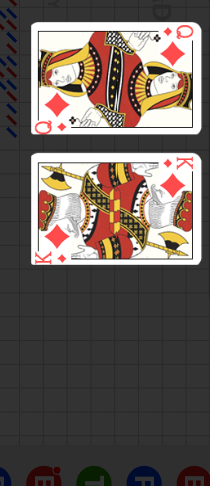KD: (161, 155, 195, 170)
QD: (31, 78, 78, 122), (152, 11, 198, 55)
